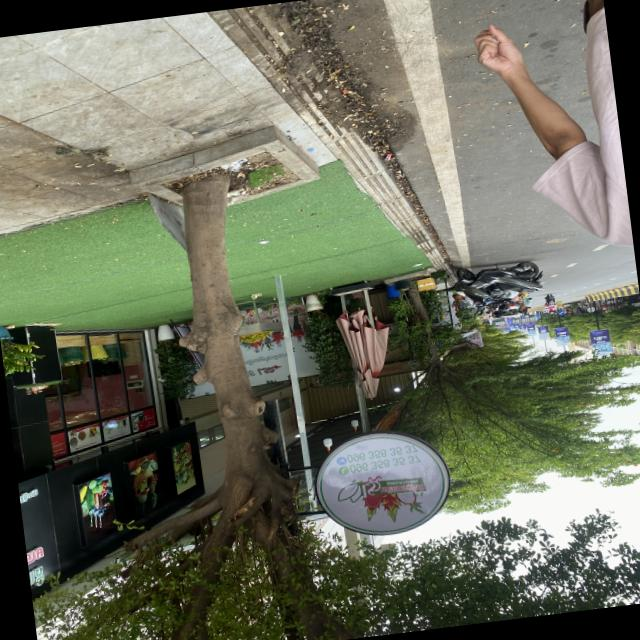1: (385, 479, 418, 486)
460: (345, 452, 424, 474), (345, 443, 420, 463)
Yolov11_80vkh: (246, 351, 287, 366), (379, 482, 425, 494), (19, 487, 39, 504), (386, 363, 402, 372)
